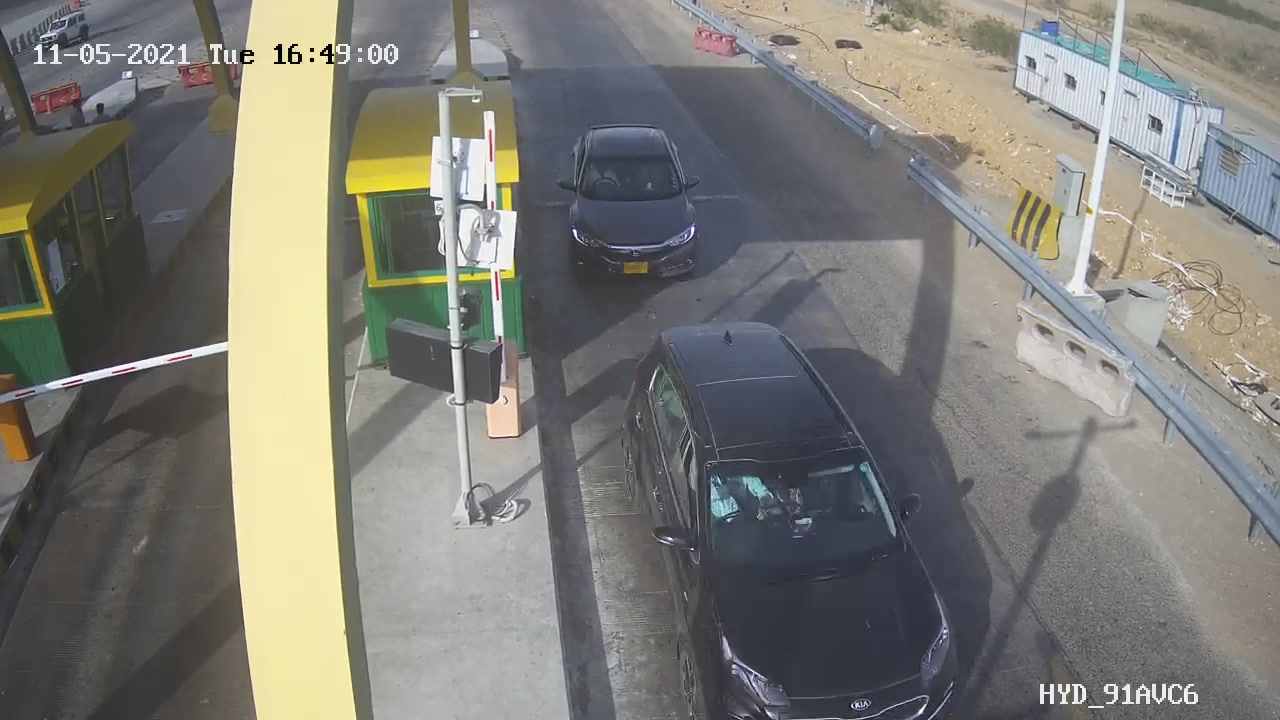F1: (542, 111, 727, 296)
